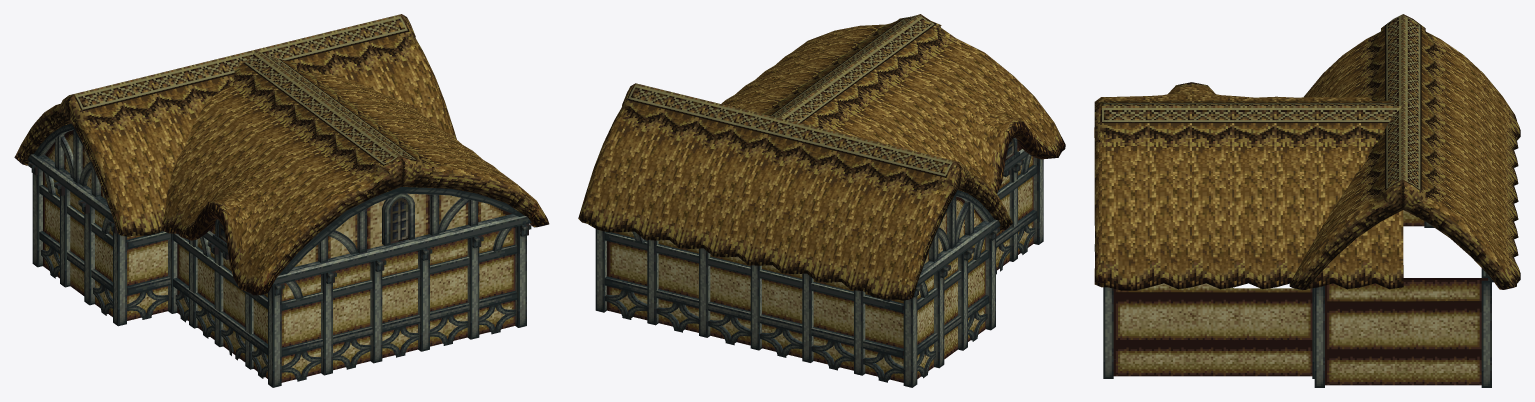
Rendered from EnvBdgMD_Forest_A_Outdoor_House_J.FBX.
3 views of the same model, side by side, from view 1: azimuth 30°, elevation 25°; view 2: azimuth 150°, elevation 25°; view 3: azimuth 270°, elevation 25° (orthographic). The views are drawn at different scales.
Visible parts, largest first — view 1: EnvBdgMD_Forest_A_Outdoor_House_J; view 2: EnvBdgMD_Forest_A_Outdoor_House_J; view 3: EnvBdgMD_Forest_A_Outdoor_House_J.
Boxes of the visible parts, <box> form: EnvBdgMD_Forest_A_Outdoor_House_J: <box>14,14,549,387</box>; EnvBdgMD_Forest_A_Outdoor_House_J: <box>578,14,1065,387</box>; EnvBdgMD_Forest_A_Outdoor_House_J: <box>1094,14,1520,387</box>.
Size of the model in its own units: 963 by 550 by 1009.
